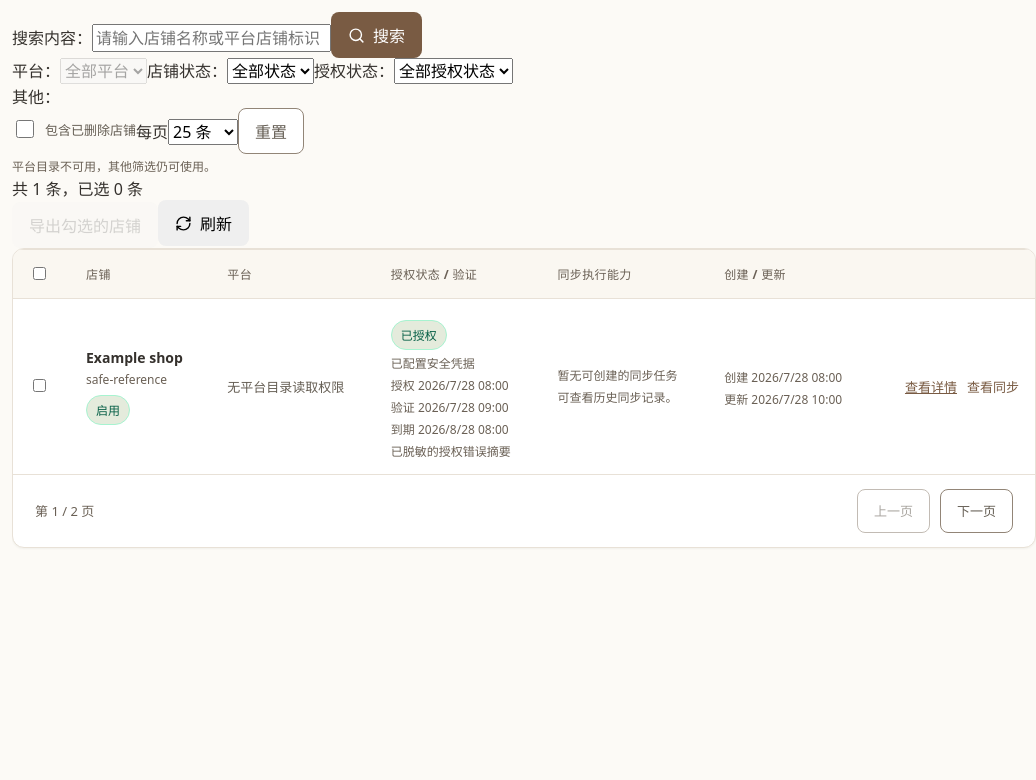
ShopCenterPage presentation › keeps sync history read-only and prevents duplicate history requests
Expected: the text "Example shop" is shown, [86,348,195,366]
Click the button "查看同步".
click(993, 386)  # box [967,368,1019,404]
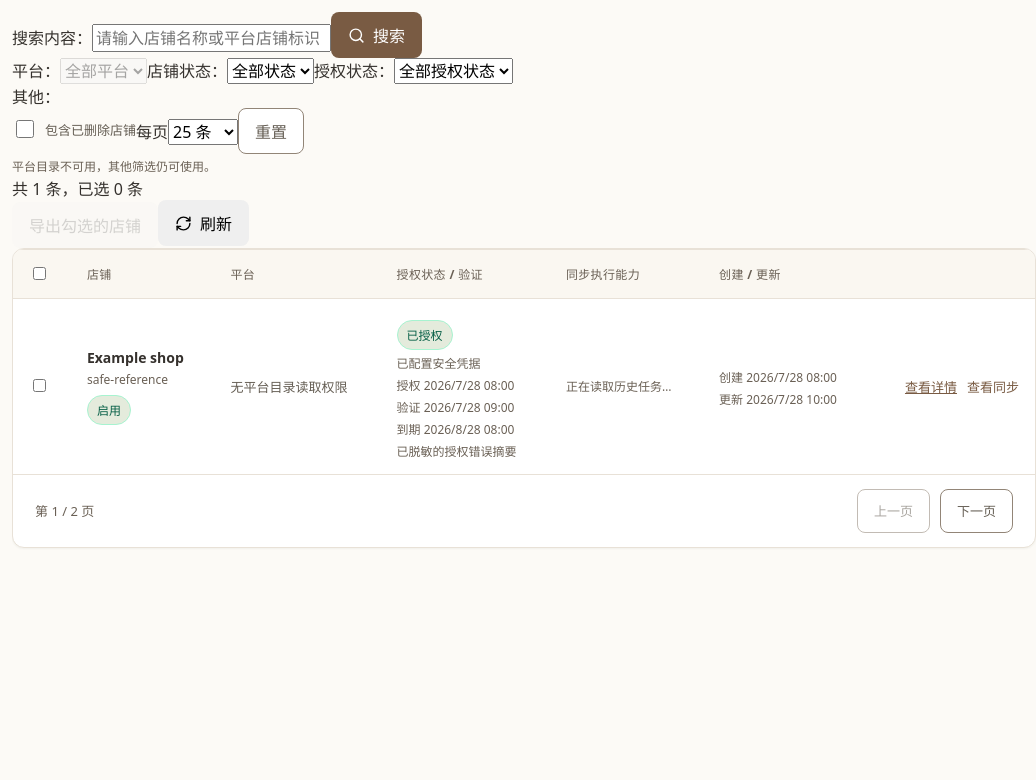
Click the button "查看同步".
click(993, 386)  # box [967,368,1019,404]
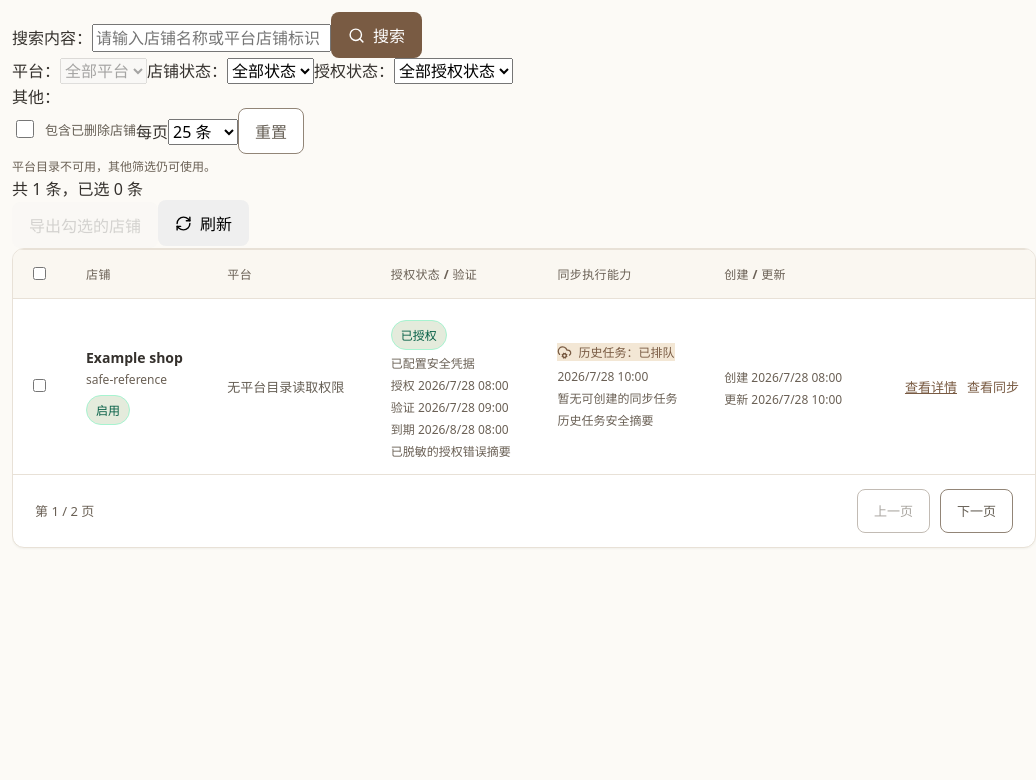
Expected: the text "历史任务：已排队" is shown, [558,343,674,361]
Expected: the text "暂无可创建的同步任务" is shown, [558,389,692,407]
Expected: the text "历史任务安全摘要" is shown, [558,412,654,429]
